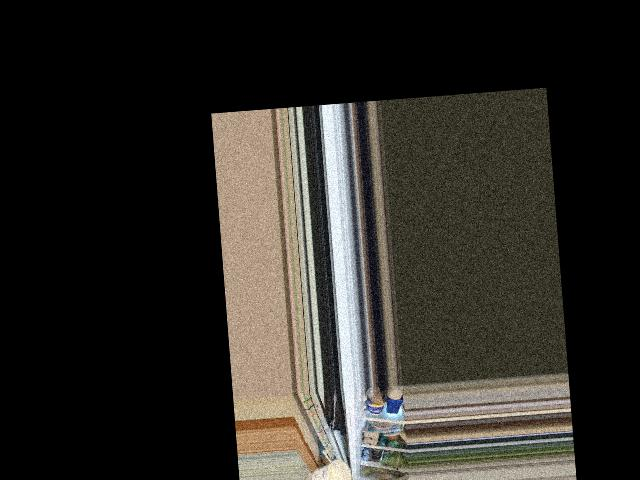cotage: (312, 460, 355, 480)
